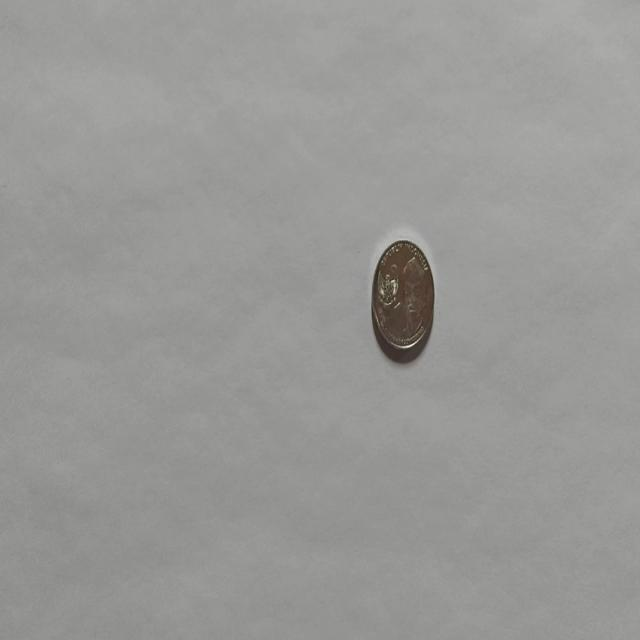dua ratus rupiah: (370, 237, 436, 352)
